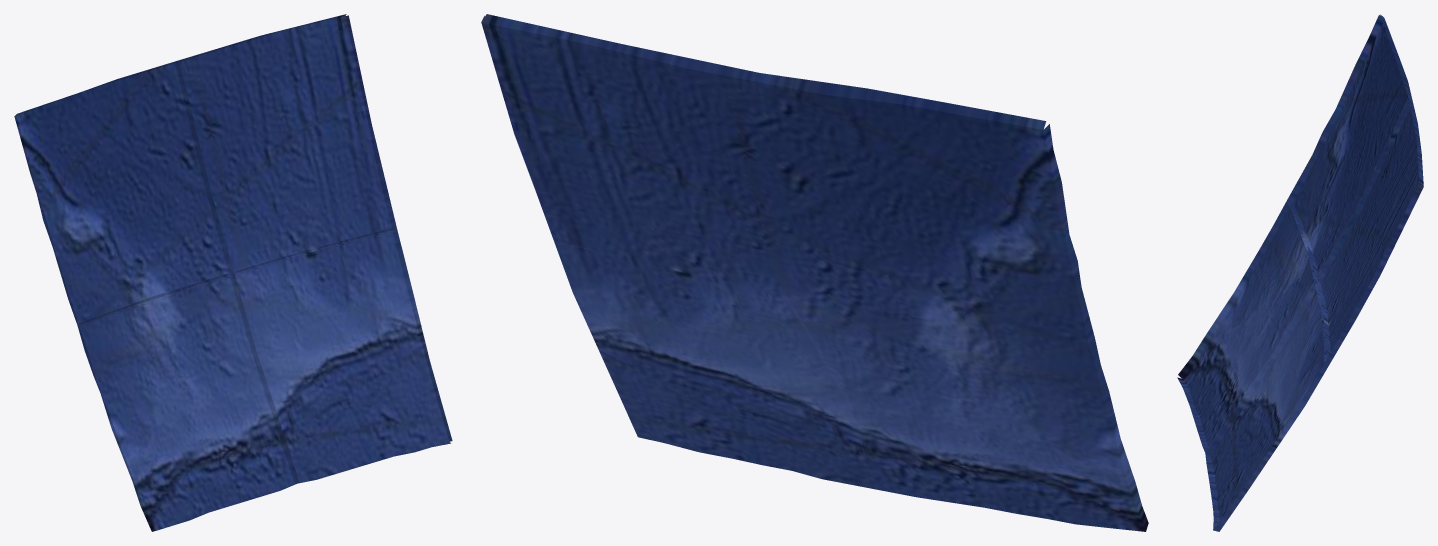
3 views of the same model, side by side, from view 1: azimuth 30°, elevation 25°; view 2: azimuth 150°, elevation 25°; view 3: azimuth 270°, elevation 25° (orthographic). The views are drawn at different scales.
Size of the model in its own units: 1167149 by 1119034 by 713291.
Materials: 1 (1 with a texture image).
